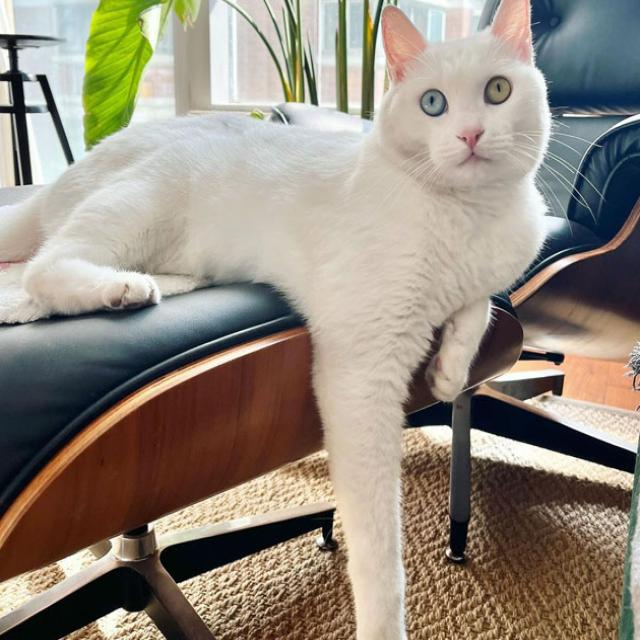Khao Manee: (0, 0, 554, 640)
